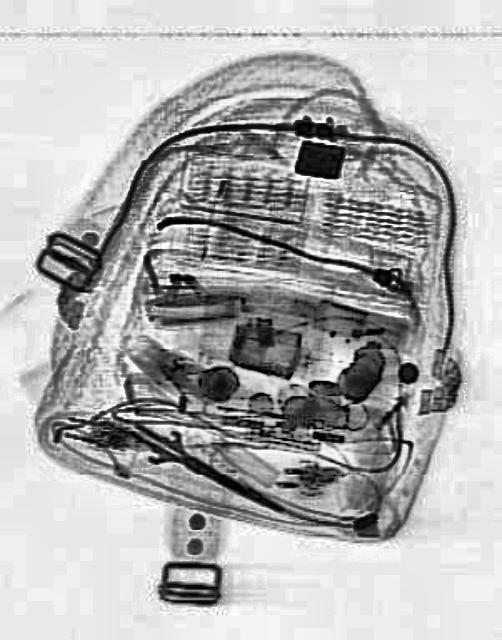Knife: (121, 406, 290, 528)
